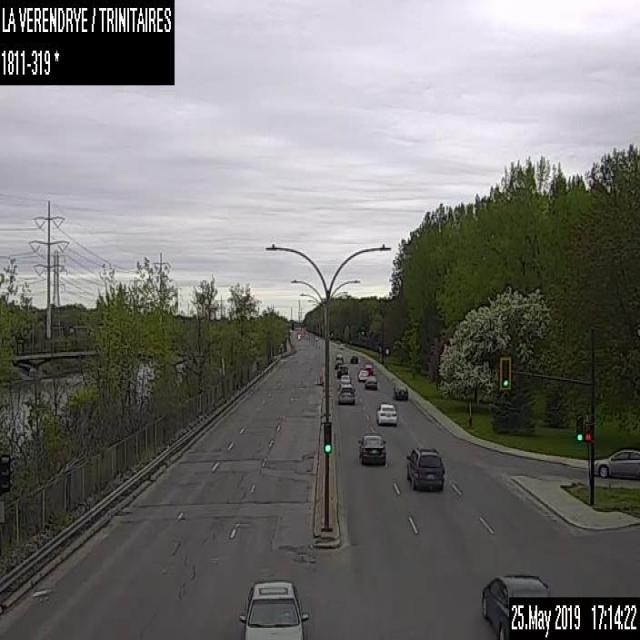vehicle: (480, 570, 549, 638), (239, 576, 307, 639), (406, 447, 444, 492), (594, 448, 639, 479), (357, 434, 385, 466), (376, 401, 396, 424), (336, 382, 355, 404), (392, 381, 407, 399), (363, 374, 377, 388), (357, 368, 368, 381), (336, 364, 347, 376), (363, 363, 372, 374), (340, 374, 350, 383), (333, 359, 342, 369), (333, 353, 342, 362), (349, 354, 357, 362)
